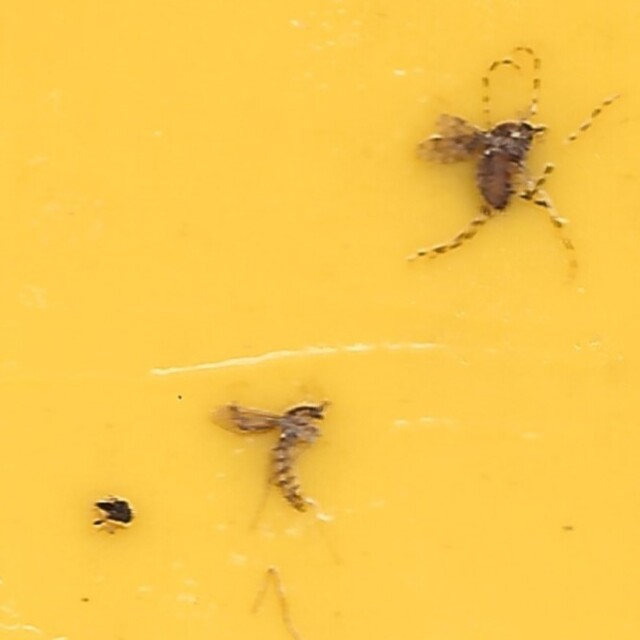Brachycera: (97, 491, 137, 534)
Nematocera: (420, 106, 543, 232), (213, 390, 323, 517)
